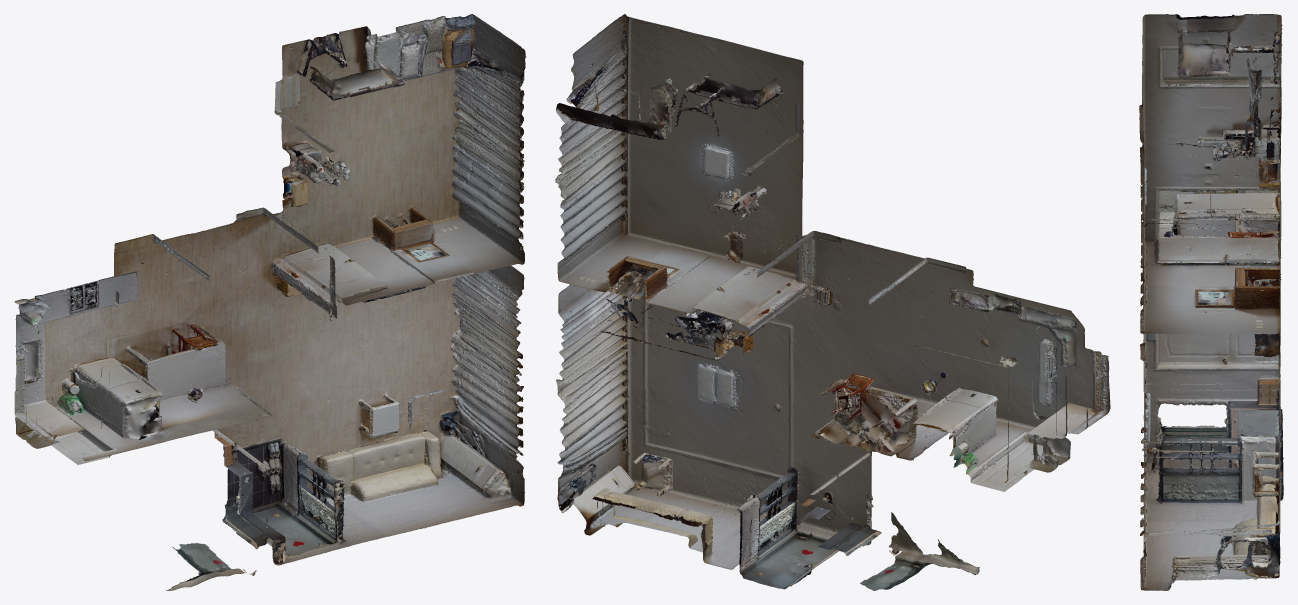
File: daejeon.glb
3 views of the same model, side by side, from view 1: azimuth 30°, elevation 25°; view 2: azimuth 150°, elevation 25°; view 3: azimuth 270°, elevation 25° (orthographic). The views are drawn at different scales.
Parts seen in each view (by area): view 1: chunk007_group000_sub002, chunk016_group000_sub003, chunk021_group000_sub002, chunk014_group000_sub004, chunk002_group000_sub003, chunk005_group000_sub002, chunk012_group000_sub003, chunk009_group000_sub002, chunk008_group000_sub002, chunk000_group000_sub002, chunk011_group000_sub003, chunk026_group000_sub004 (+10 smaller); view 2: chunk023_group000_sub003, chunk004_group000_sub002, chunk020_group000_sub002, chunk026_group000_sub004, chunk014_group000_sub004, chunk008_group000_sub002, chunk009_group000_sub002, chunk012_group000_sub003, chunk002_group000_sub003, chunk006_group000_sub002, chunk000_group000_sub002, chunk011_group000_sub003 (+12 smaller); view 3: chunk002_group000_sub003, chunk000_group000_sub002, chunk003_group000_sub003, chunk008_group000_sub002, chunk011_group000_sub003, chunk012_group000_sub003, chunk017_group000_sub002, chunk009_group000_sub002, chunk014_group000_sub004, chunk018_group000_sub002, mirror024_group000_sub003, chunk005_group000_sub002 (+11 smaller).
Boxes of the visible parts, x1=… form: chunk007_group000_sub002: x1=110, y1=208, x2=458, y2=512; chunk016_group000_sub003: x1=275, y1=24, x2=526, y2=289; chunk021_group000_sub002: x1=137, y1=239, x2=523, y2=575; chunk014_group000_sub004: x1=14, y1=271, x2=171, y2=464; chunk002_group000_sub003: x1=274, y1=14, x2=525, y2=305; chunk005_group000_sub002: x1=111, y1=216, x2=329, y2=554; chunk012_group000_sub003: x1=305, y1=15, x2=524, y2=295; chunk009_group000_sub002: x1=153, y1=208, x2=521, y2=502; chunk008_group000_sub002: x1=126, y1=228, x2=343, y2=590; chunk000_group000_sub002: x1=174, y1=274, x2=511, y2=588; chunk011_group000_sub003: x1=274, y1=16, x2=525, y2=301; chunk026_group000_sub004: x1=15, y1=284, x2=161, y2=457; chunk023_group000_sub003: x1=556, y1=18, x2=802, y2=302; chunk004_group000_sub002: x1=630, y1=238, x2=980, y2=531; chunk020_group000_sub002: x1=629, y1=292, x2=806, y2=524; chunk026_group000_sub004: x1=914, y1=284, x2=1110, y2=482; chunk014_group000_sub004: x1=913, y1=288, x2=1109, y2=491; chunk008_group000_sub002: x1=714, y1=241, x2=979, y2=586; chunk009_group000_sub002: x1=557, y1=231, x2=966, y2=561; chunk012_group000_sub003: x1=556, y1=28, x2=774, y2=312; chunk002_group000_sub003: x1=559, y1=14, x2=803, y2=322; chunk006_group000_sub002: x1=557, y1=232, x2=964, y2=537; chunk000_group000_sub002: x1=558, y1=298, x2=970, y2=590; chunk011_group000_sub003: x1=555, y1=14, x2=803, y2=322; chunk002_group000_sub003: x1=1140, y1=14, x2=1282, y2=334; chunk000_group000_sub002: x1=1145, y1=333, x2=1282, y2=586; chunk003_group000_sub003: x1=1143, y1=14, x2=1279, y2=330; chunk008_group000_sub002: x1=1143, y1=208, x2=1282, y2=501; chunk011_group000_sub003: x1=1139, y1=14, x2=1282, y2=332; chunk012_group000_sub003: x1=1139, y1=30, x2=1281, y2=331; chunk017_group000_sub002: x1=1145, y1=189, x2=1283, y2=577; chunk009_group000_sub002: x1=1147, y1=191, x2=1280, y2=577; chunk014_group000_sub004: x1=1142, y1=144, x2=1279, y2=237; chunk018_group000_sub002: x1=1140, y1=190, x2=1282, y2=589; mirror024_group000_sub003: x1=1144, y1=285, x2=1234, y2=309; chunk005_group000_sub002: x1=1146, y1=190, x2=1282, y2=500.
Bounding box in the file's own units: 10.05 × 9.19 × 2.44.
14 materials, 14 textured.
